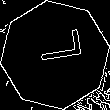L_W: (28, 36, 82, 74)
